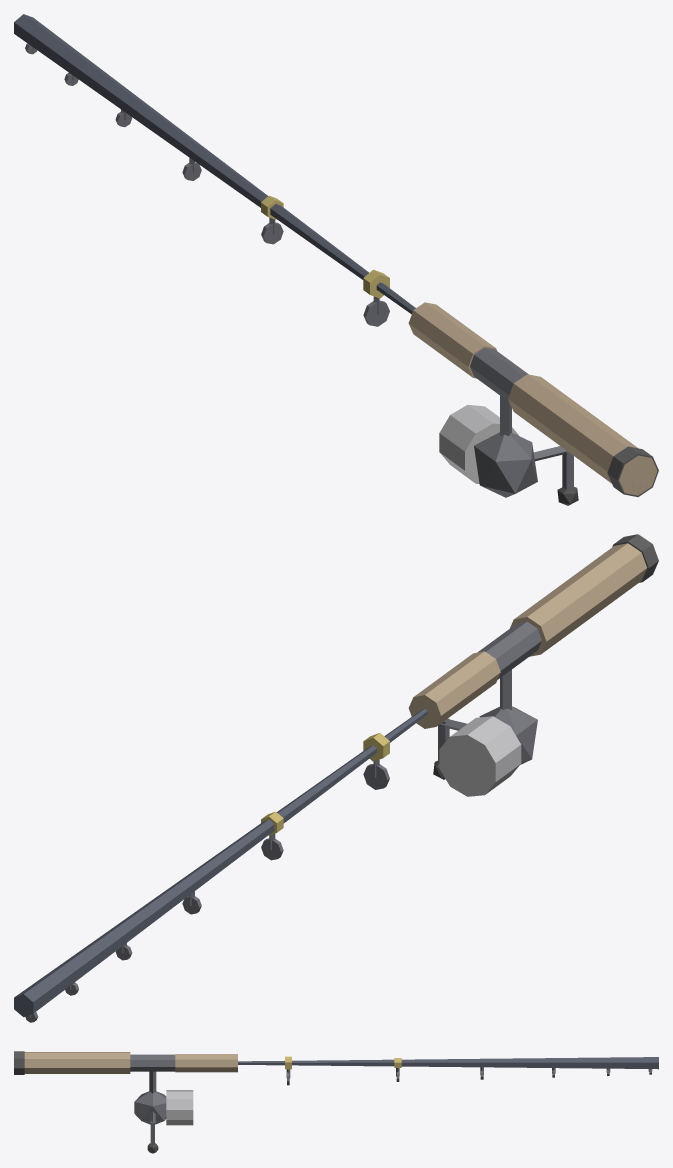
The model's file is GraphiteRod.glb.
3 renders of one model, top to bottom at view 1: azimuth 30°, elevation 25°; view 2: azimuth 150°, elevation 25°; view 3: azimuth 270°, elevation 25°, orthographic. The views are drawn at different scales.
Visible parts, largest first — view 1: GraphiteRod; view 2: GraphiteRod; view 3: GraphiteRod.
Part boxes in pixels (box(x1,y1,x2,y2)): GraphiteRod: box(14, 14, 658, 505); GraphiteRod: box(14, 534, 658, 1022); GraphiteRod: box(14, 1051, 658, 1153).
Bounding box in the file's own units: 0.6728 × 1.06 × 7.2.
